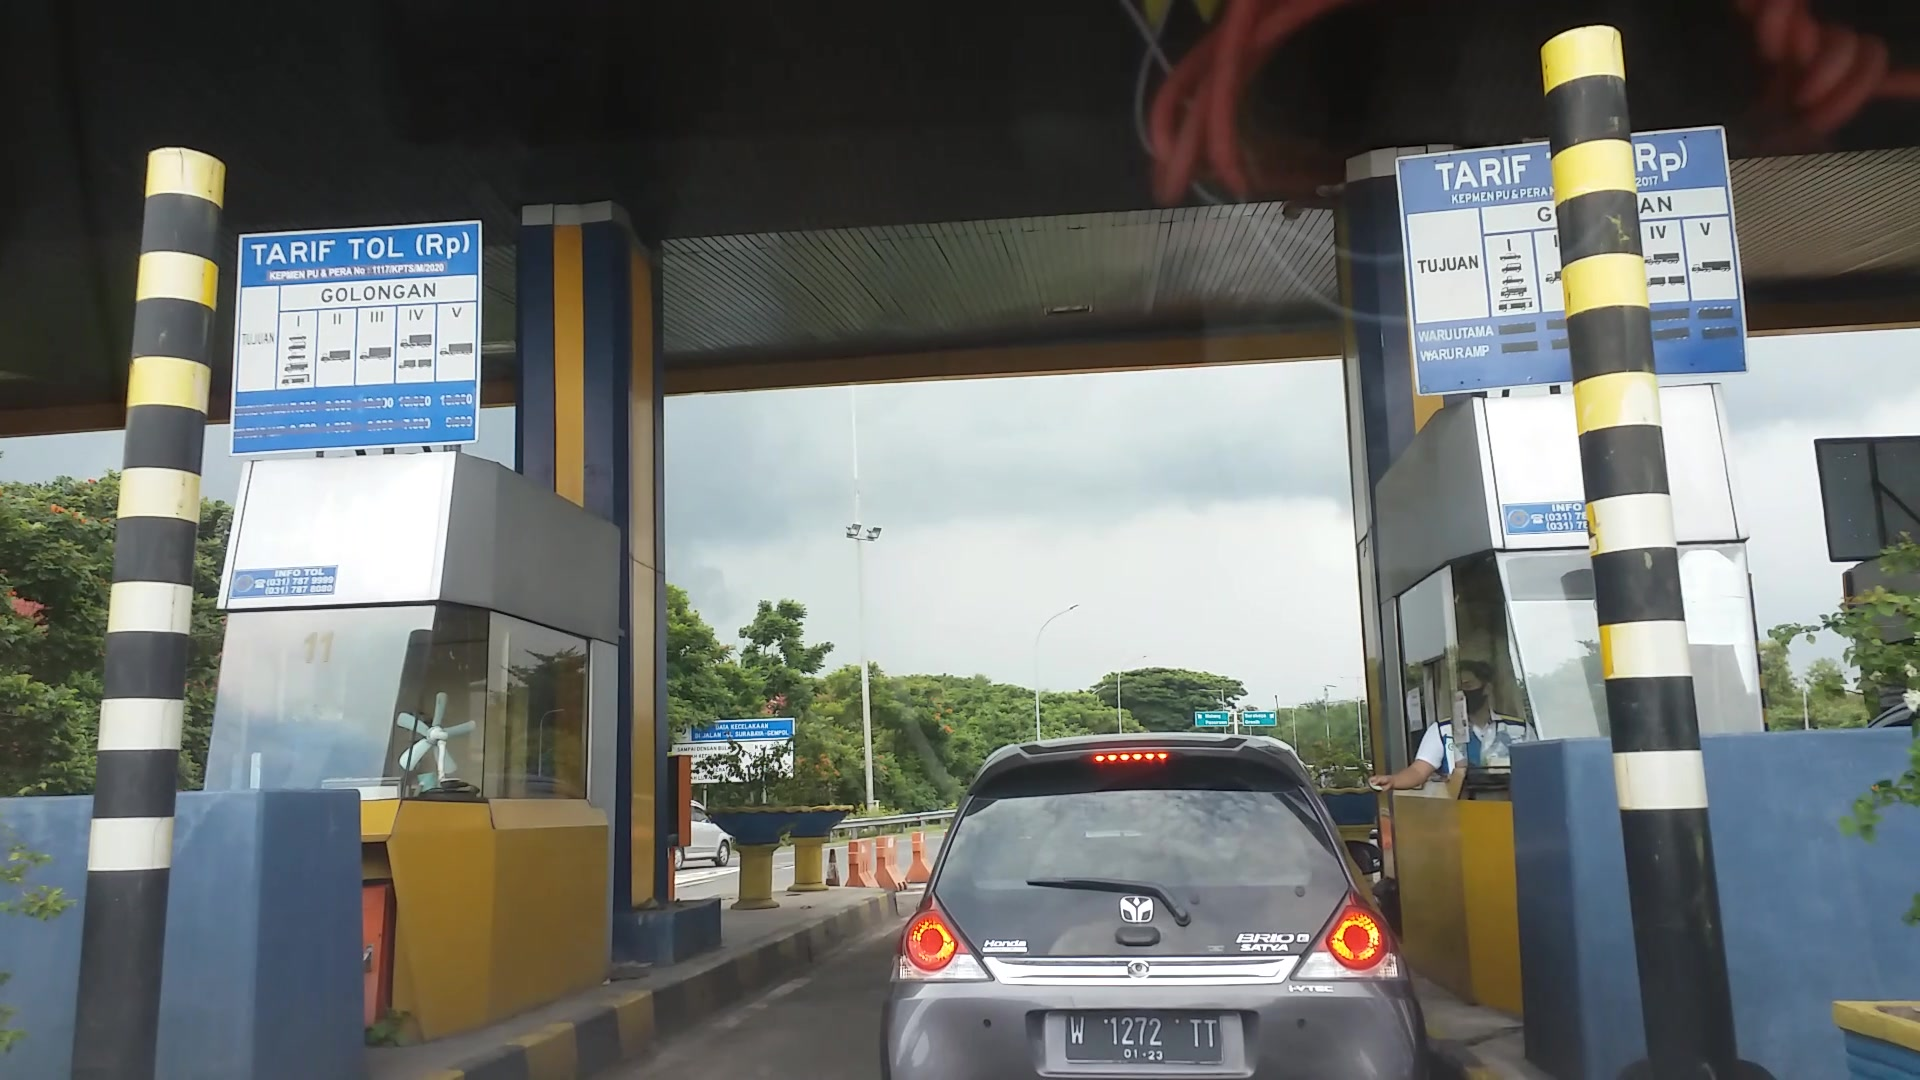plate_positive: (1065, 1010, 1224, 1064)
